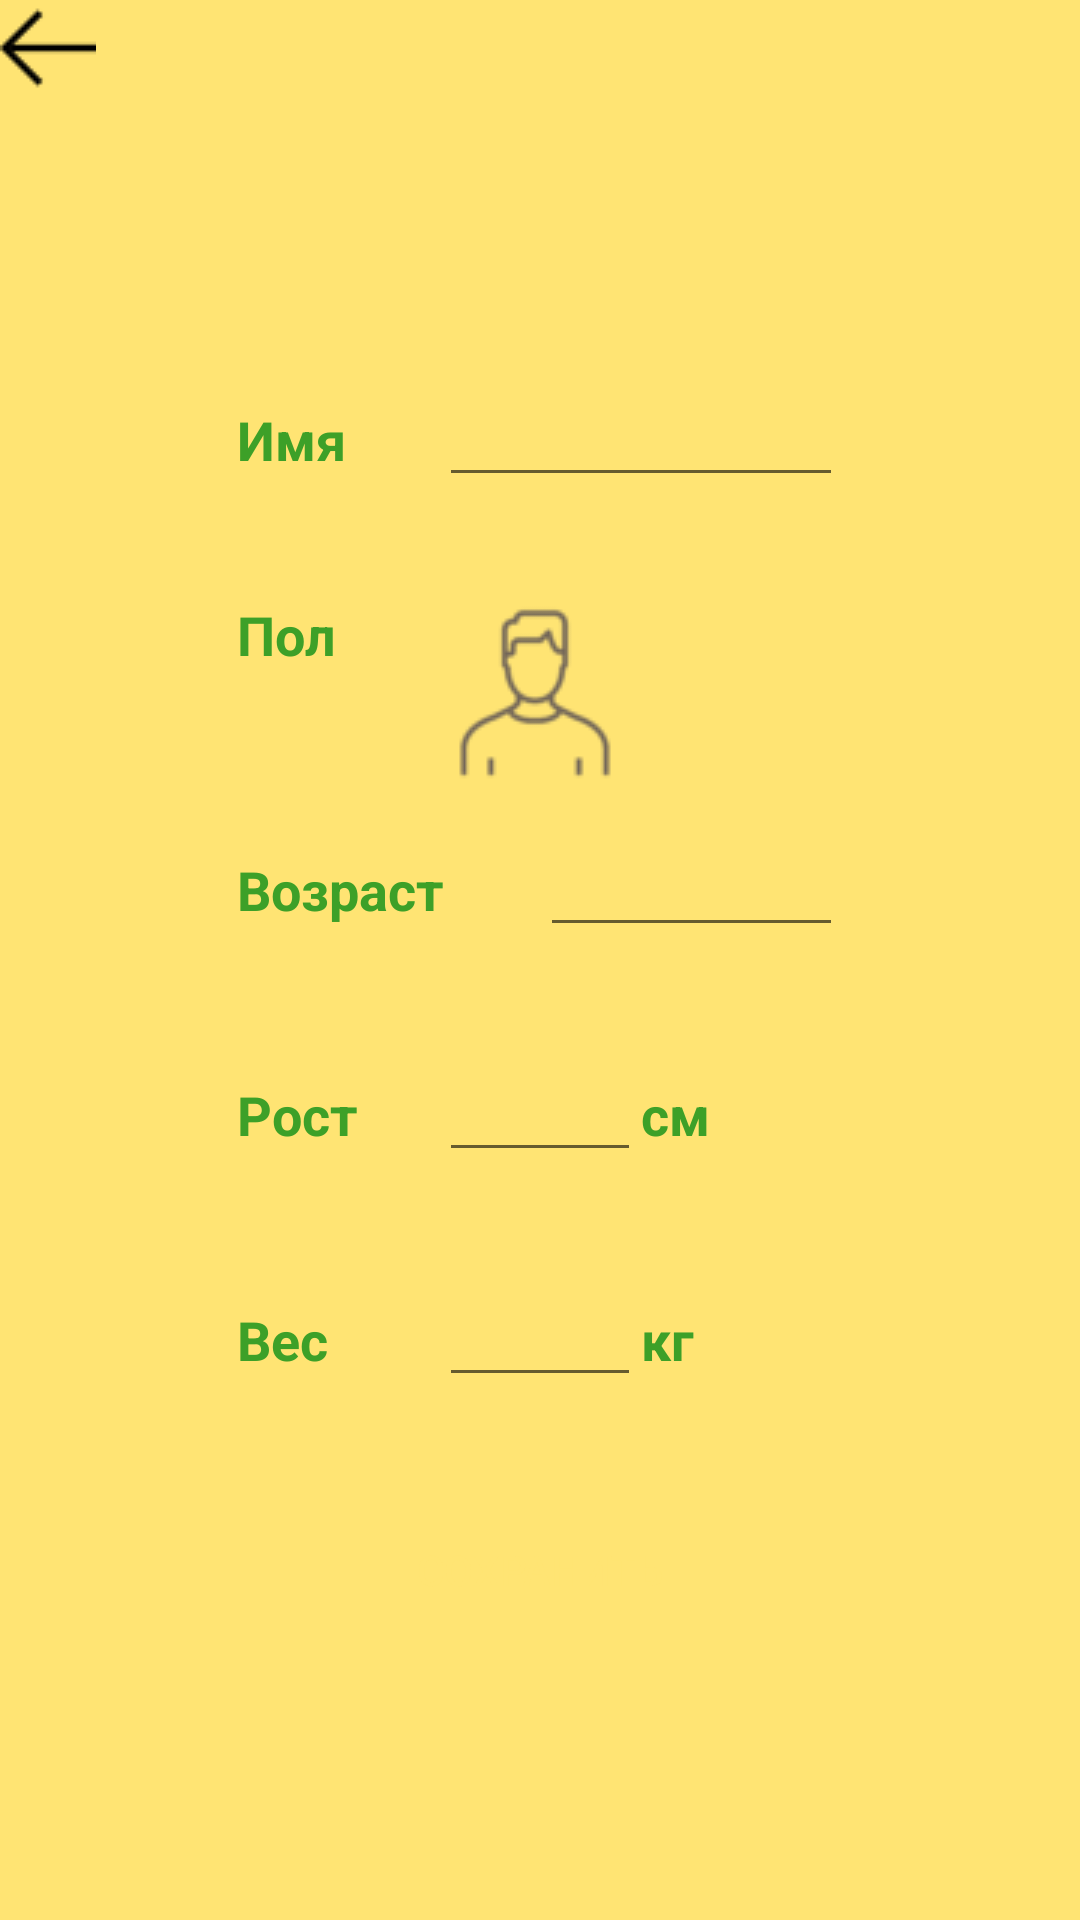

Named icons in this screenshot (1080×1920) and their bounding boxes, (x1, y1, x2, y2):
bac: (0, 8, 96, 88)
male: (459, 609, 611, 776)
